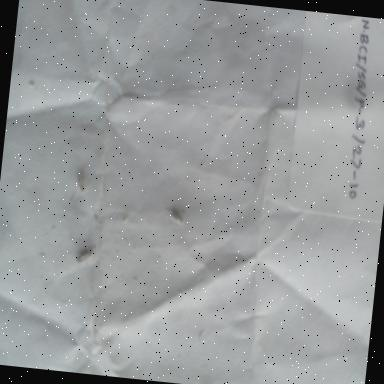pbw: (71, 246, 94, 266), (75, 166, 90, 196), (166, 208, 186, 228)
